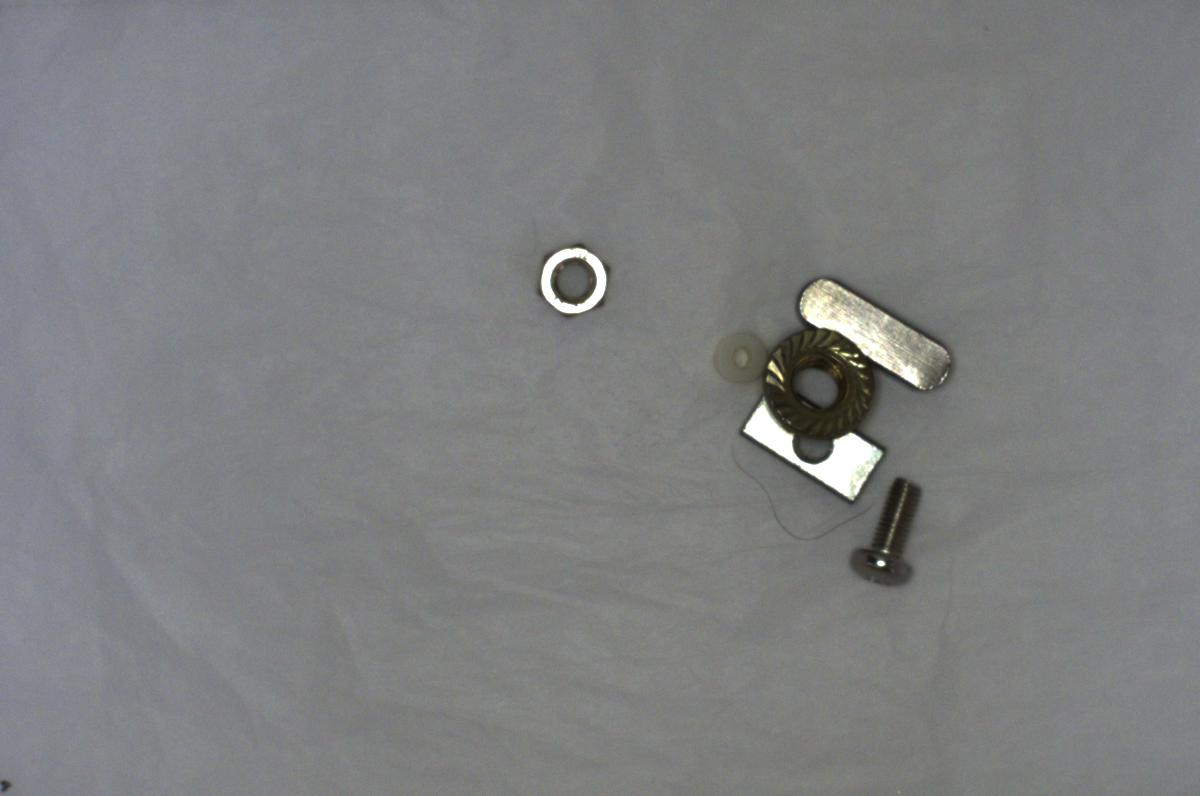Flange nut: (752, 324, 884, 451)
Hexagon nut: (526, 233, 614, 326)
Keybar: (787, 265, 962, 396)
Plastic cushion pillar: (691, 321, 771, 392)
Rectangular nut: (744, 386, 888, 498)
Round head screw: (848, 468, 934, 594)
